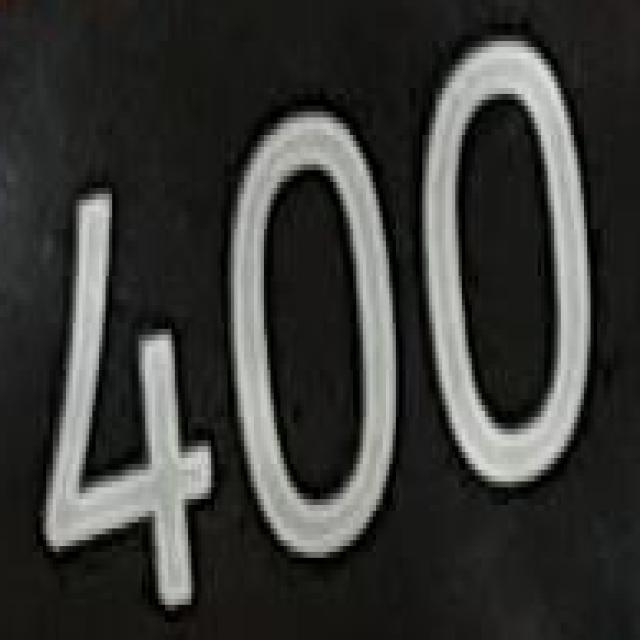character: (222, 102, 407, 571), (418, 35, 598, 496), (39, 182, 216, 624)
